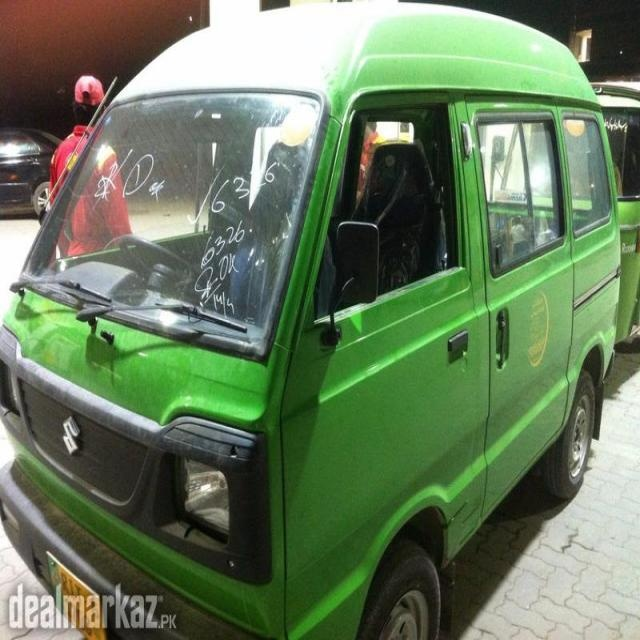Van: (0, 0, 622, 635)
